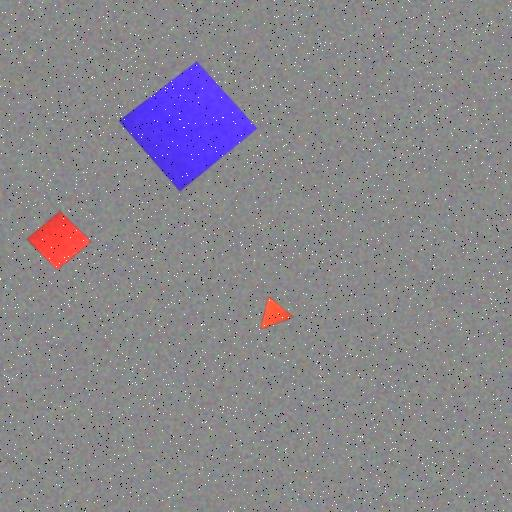BLUE_SQUARE: (118, 61, 258, 192)
RED_SQUARE: (26, 210, 92, 270)
